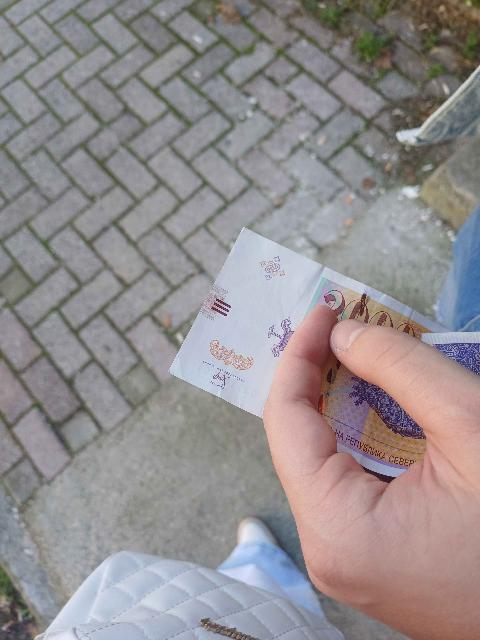2000_note: (171, 230, 444, 416)
